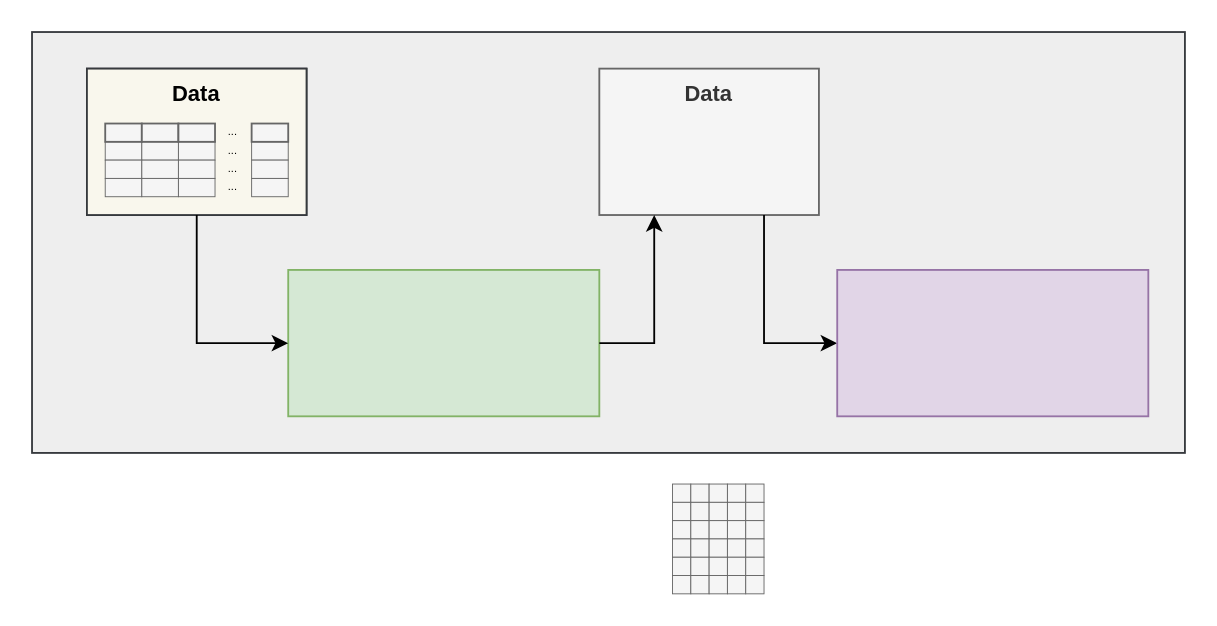
Image size: 1217x626. Some labels were removed from this diagram. The centre of each missing label's shape, as x and y in pixels:
"CNN-2D Model" goes at point 991,342.
"Prepare & Transform Data" goes at point 442,342.
